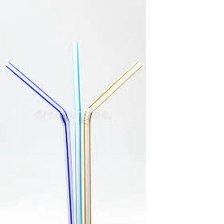drinking_straw: (1, 58, 73, 224), (82, 55, 146, 223), (69, 36, 85, 223)
